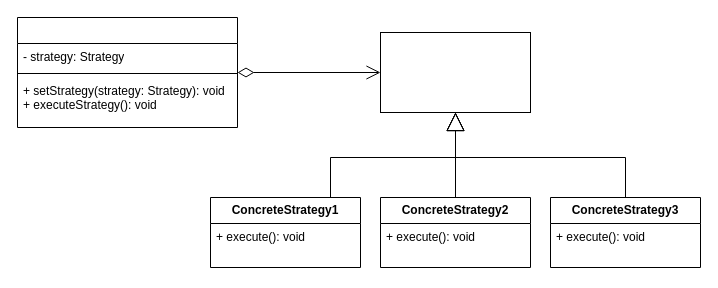
Some shapes in this 718 by 288 pixel diagram are drawn without their labels. The box of each missing label's shape, as (x1, y1, x2, y2) in pixels:
<<Interface>> Strategy + execute(): void: (380, 32, 530, 112)
Context: (16, 16, 238, 128)
